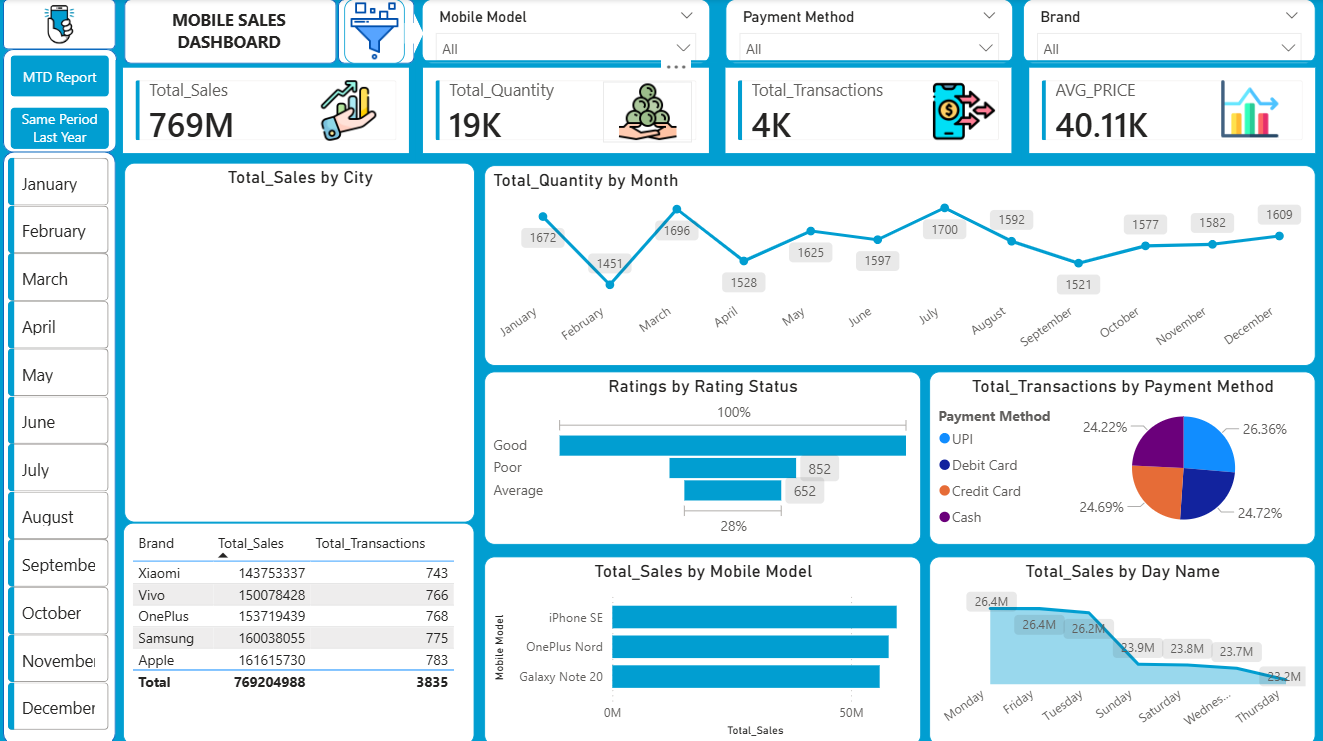

The page's visual inventory and layout, read from the dashboard file:
{"tool":"powerbi","page":{"name":"Dashboard","canvas":[1280,720],"ordinal":0},"visuals":[{"type":"shape","box":[5,0,108.8,48.8],"z":0},{"type":"image","box":[5,0,108.8,48.8],"z":1000},{"type":"shape","box":[5,48.8,110,100],"z":2000},{"type":"shape","box":[5,147.5,108.8,572.5],"z":3000},{"type":"advancedSlicerVisual","fields":{"Values":["Custom_Calender.Date.Variation.Date Hierarchy.Month"]},"box":[5,148.8,107.5,571.2],"z":4000},{"type":"cardVisual","fields":{"Data":["Sales_Data.Total_Sales"]},"box":[113.8,58.8,292.5,98.8],"z":5000},{"type":"image","box":[290,78.8,97.5,58.8],"z":6000},{"type":"slicer","fields":{"Values":["Sales_Data.Mobile Model"]},"box":[408.8,0,278.8,62.5],"z":7000},{"type":"slicer","fields":{"Values":["Sales_Data.Payment Method"]},"box":[702.5,0,277.5,62.5],"z":8000},{"type":"slicer","fields":{"Values":["Sales_Data.Brand"]},"box":[988.8,0,282.5,62.5],"z":9000},{"type":"cardVisual","fields":{"Data":["Sales_Data.Total_Quantity"]},"box":[402.5,58.8,292.5,98.8],"z":10000},{"type":"cardVisual","fields":{"Data":["Sales_Data.Total_Transactions"]},"box":[695,58.8,292.5,98.8],"z":11000},{"type":"cardVisual","fields":{"Data":["Sales_Data.AVG_PRICE"]},"box":[987.5,58.8,292.5,98.8],"z":12000},{"type":"image","box":[583.8,80,86.2,58.8],"z":13000},{"type":"image","box":[890,78.8,83.8,60],"z":14000},{"type":"image","box":[1158.8,78.8,100,55],"z":15000},{"type":"shape","box":[328.8,0,73.8,62.5],"z":16000},{"type":"image","box":[333.8,0,58.8,62.5],"z":17000},{"type":"shape","box":[392.5,13.8,18.8,40],"z":18000},{"type":"shape","box":[121.2,0,205,62.5],"z":19000},{"type":"textbox","box":[131.2,3.8,182.5,55],"z":20000},{"type":"map","fields":{"Category":["Sales_Data.City"],"Size":["Sales_Data.Total_Sales"]},"box":[121.2,157.5,338.8,347.5],"z":21000},{"type":"lineChart","fields":{"Y":["Sales_Data.Total_Quantity"],"Category":["Custom_Calender.Date.Variation.Date Hierarchy.Month"]},"box":[468.8,160,802.5,193.8],"z":22000},{"type":"funnel","title":" Ratings by Rating Status","fields":{"Y":["CountNonNull(Sales_Data.Customer Ratings)"],"Category":["Sales_Data.Rating Status"]},"box":[468.8,360,421.2,167.5],"z":23000},{"type":"pieChart","fields":{"Y":["Sales_Data.Total_Transactions"],"Category":["Sales_Data.Payment Method"]},"box":[898.8,360,372.5,167.5],"z":24000},{"type":"clusteredBarChart","fields":{"Y":["Sales_Data.Total_Sales"],"Category":["Sales_Data.Mobile Model"]},"box":[468.8,537.5,421.2,182.5],"z":25000},{"type":"areaChart","fields":{"Y":["Sales_Data.Total_Sales"],"Category":["Custom_Calender.Day Name"]},"box":[898.8,537.5,372.5,182.5],"z":26000},{"type":"tableEx","fields":{"Values":["Sales_Data.Brand","Sales_Data.Total_Sales","Sales_Data.Total_Transactions"]},"box":[121,506,339,214],"z":27000},{"type":"pageNavigator","box":[12.5,53.8,95,90],"z":28000}]}

Visuals, with their boxes in screenshot pixels (x1, y1, x2, y2), scaled from the page's 1280x720 canvas onto the 1323x741 screenshot:
shape: <bbox>5, 0, 118, 50</bbox>
image: <bbox>5, 0, 118, 50</bbox>
shape: <bbox>5, 50, 119, 153</bbox>
shape: <bbox>5, 152, 118, 740</bbox>
advancedSlicerVisual - Custom_Calender.Date.Variation.Date Hierarchy.Month: <bbox>5, 153, 116, 740</bbox>
cardVisual - Sales_Data.Total_Sales: <bbox>118, 61, 420, 162</bbox>
image: <bbox>300, 81, 401, 142</bbox>
slicer - Sales_Data.Mobile Model: <bbox>423, 0, 711, 64</bbox>
slicer - Sales_Data.Payment Method: <bbox>726, 0, 1013, 64</bbox>
slicer - Sales_Data.Brand: <bbox>1022, 0, 1314, 64</bbox>
cardVisual - Sales_Data.Total_Quantity: <bbox>416, 61, 718, 162</bbox>
cardVisual - Sales_Data.Total_Transactions: <bbox>718, 61, 1021, 162</bbox>
cardVisual - Sales_Data.AVG_PRICE: <bbox>1021, 61, 1322, 162</bbox>
image: <bbox>603, 82, 693, 143</bbox>
image: <bbox>920, 81, 1007, 143</bbox>
image: <bbox>1198, 81, 1301, 138</bbox>
shape: <bbox>340, 0, 416, 64</bbox>
image: <bbox>345, 0, 406, 64</bbox>
shape: <bbox>406, 14, 425, 55</bbox>
shape: <bbox>125, 0, 337, 64</bbox>
textbox: <bbox>136, 4, 324, 61</bbox>
map - Sales_Data.City x Sales_Data.Total_Sales: <bbox>125, 162, 475, 520</bbox>
lineChart - Sales_Data.Total_Quantity x Custom_Calender.Date.Variation.Date Hierarchy.Month: <bbox>485, 165, 1314, 364</bbox>
" Ratings by Rating Status" funnel: <bbox>485, 370, 920, 543</bbox>
pieChart - Sales_Data.Total_Transactions x Sales_Data.Payment Method: <bbox>929, 370, 1314, 543</bbox>
clusteredBarChart - Sales_Data.Total_Sales x Sales_Data.Mobile Model: <bbox>485, 553, 920, 740</bbox>
areaChart - Sales_Data.Total_Sales x Custom_Calender.Day Name: <bbox>929, 553, 1314, 740</bbox>
tableEx - Sales_Data.Brand x Sales_Data.Total_Sales: <bbox>125, 521, 475, 740</bbox>
pageNavigator: <bbox>13, 55, 111, 148</bbox>
